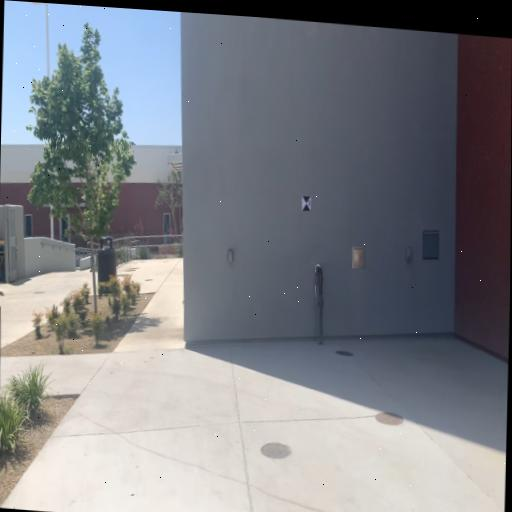target3: (302, 195, 311, 212)
